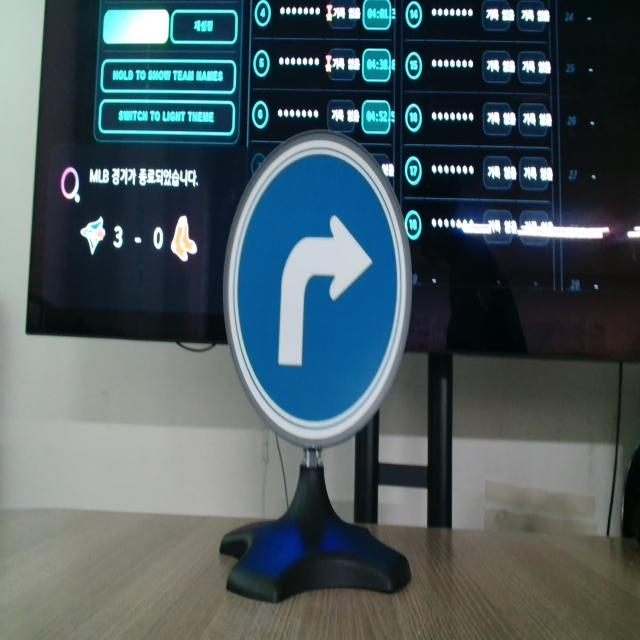right_dierection: (217, 124, 414, 447)
